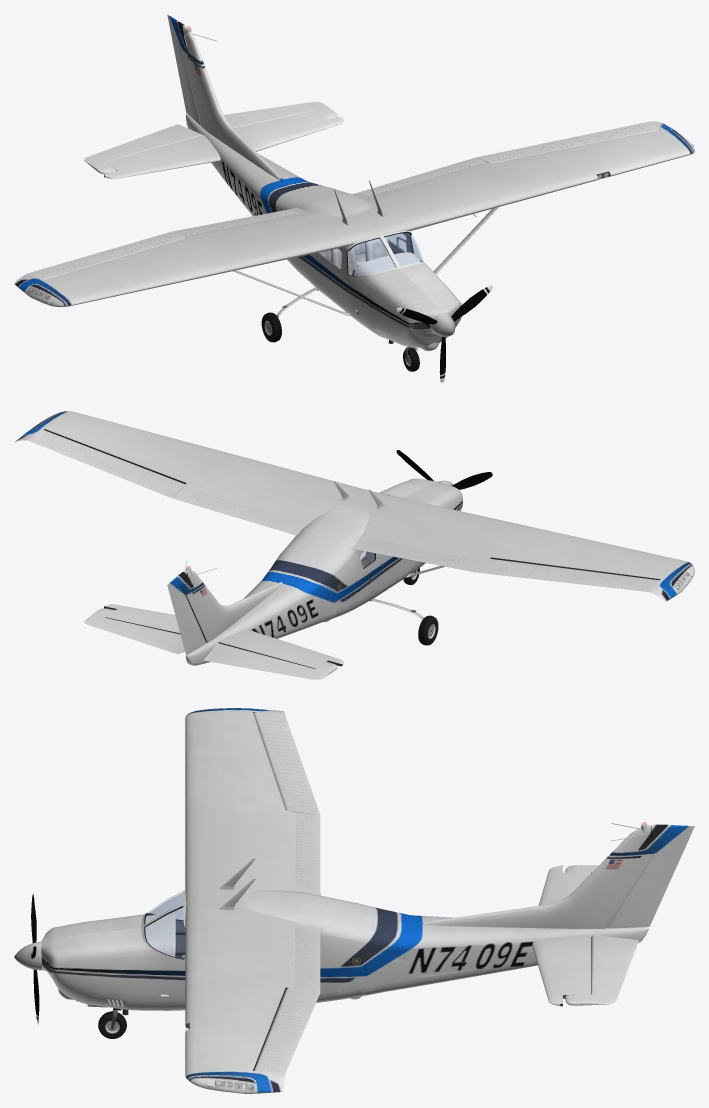
The model's file is prop.glb.
3 renders of one model, top to bottom at view 1: azimuth 30°, elevation 25°; view 2: azimuth 150°, elevation 25°; view 3: azimuth 270°, elevation 25°, orthographic. The views are drawn at different scales.
Parts seen in each view (by area): view 1: BODY, ELEV, AIL_L, AIL_R, PROP0, RUD; view 2: BODY, ELEV, AIL_L, AIL_R, RUD, PROP0; view 3: BODY, RUD, AIL_R, ELEV, AIL_L, PROP0.
Part boxes in pixels (bbox=[...]): BODY: bbox=[14, 26, 694, 371]; ELEV: bbox=[84, 101, 337, 174]; AIL_L: bbox=[477, 122, 659, 163]; AIL_R: bbox=[31, 231, 185, 279]; PROP0: bbox=[396, 285, 492, 382]; RUD: bbox=[167, 14, 201, 125]; BODY: bbox=[14, 411, 694, 668]; ELEV: bbox=[84, 608, 337, 679]; AIL_L: bbox=[31, 430, 184, 497]; AIL_R: bbox=[477, 559, 658, 591]; RUD: bbox=[167, 571, 206, 655]; PROP0: bbox=[396, 450, 492, 489]; BODY: bbox=[41, 708, 663, 1093]; RUD: bbox=[606, 824, 694, 928]; AIL_R: bbox=[253, 712, 320, 814]; ELEV: bbox=[565, 865, 638, 1005]; AIL_L: bbox=[254, 988, 319, 1073]; PROP0: bbox=[14, 894, 42, 1024].
Size of the model in its own units: 11.17 by 2.96 by 8.47.
25 materials, 19 textured.
